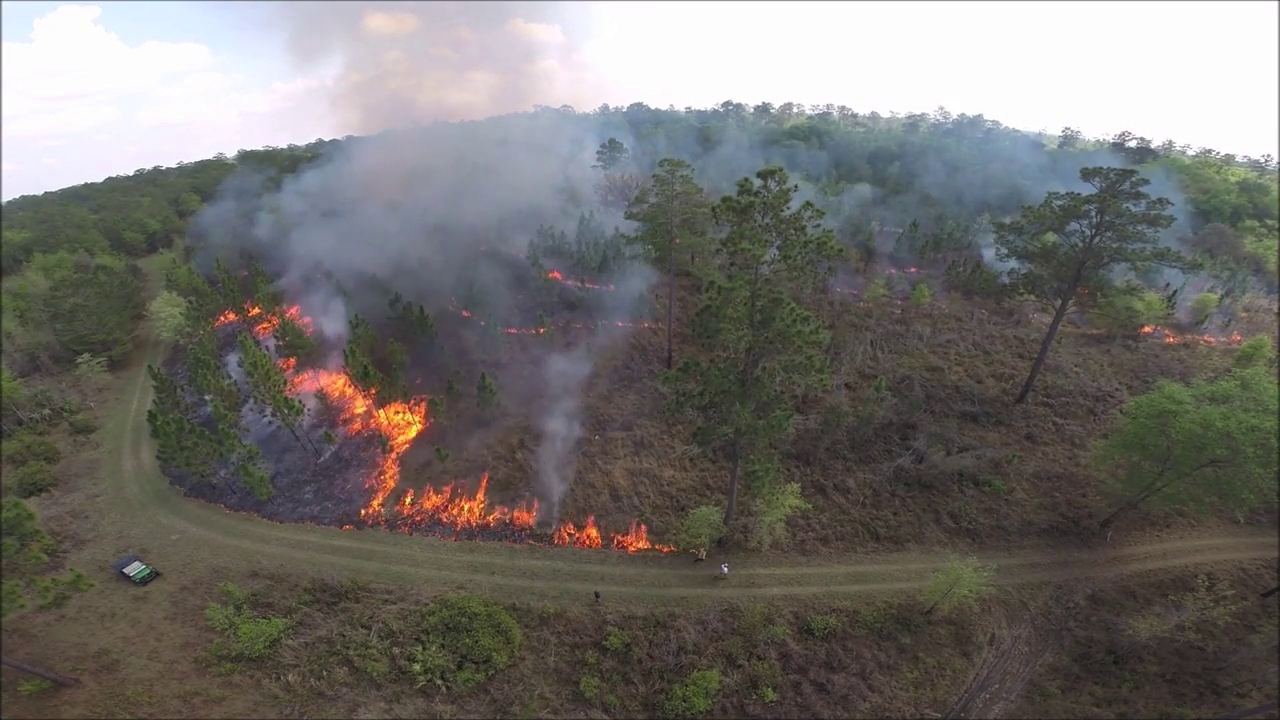forest_fire: (280, 358, 536, 541), (550, 517, 673, 552), (216, 304, 279, 338), (1139, 325, 1241, 344), (279, 304, 311, 333), (547, 271, 563, 280)
